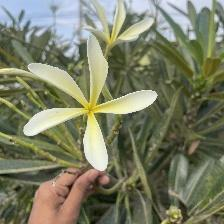champaka: (22, 33, 162, 176), (82, 1, 157, 46)
